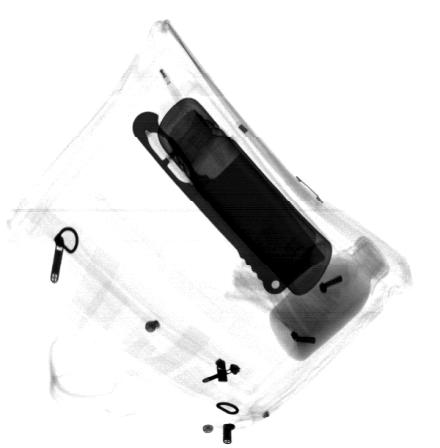Knife: (131, 110, 327, 296)
